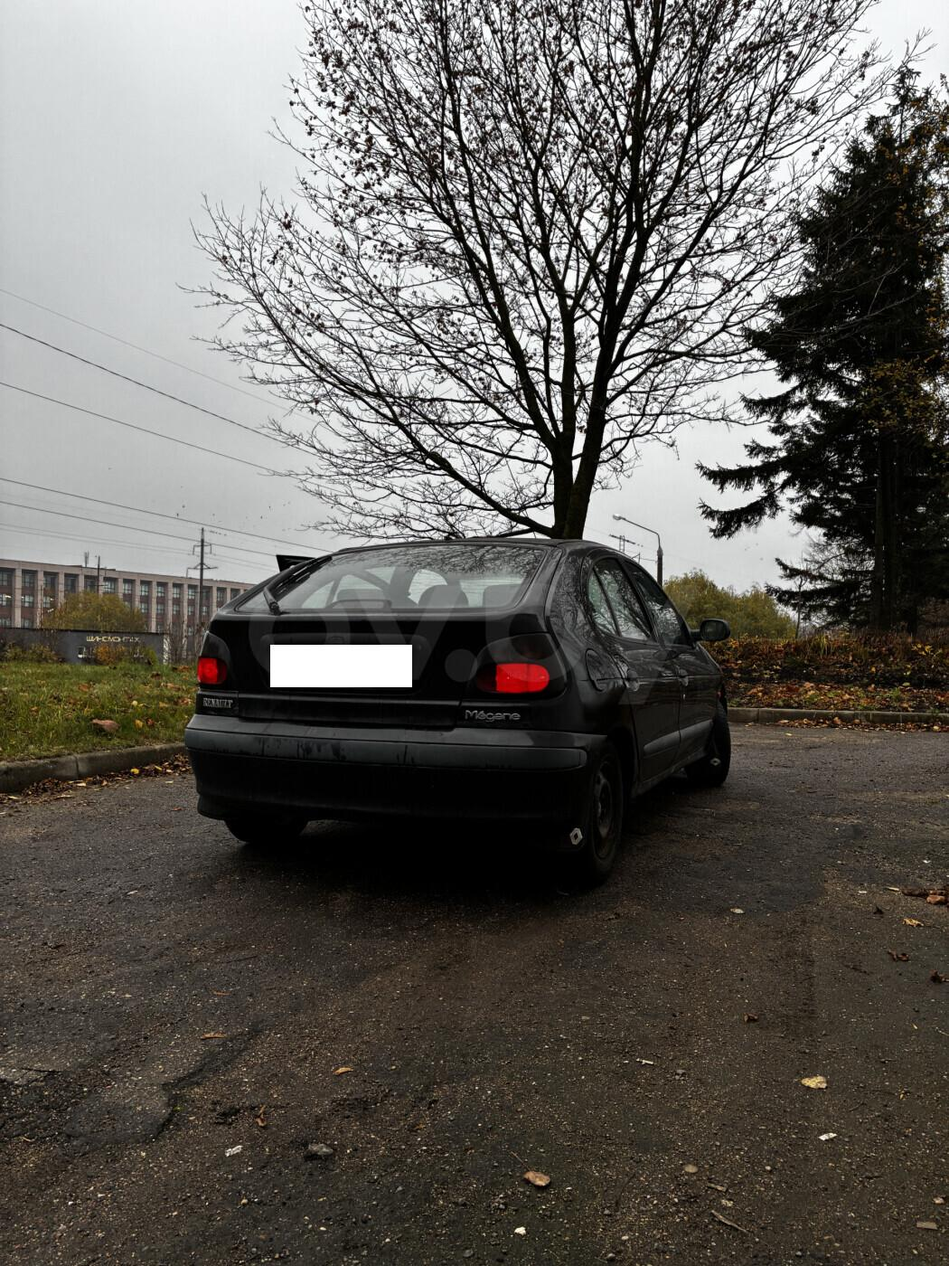Megane_1995-1999: (181, 537, 745, 904)
